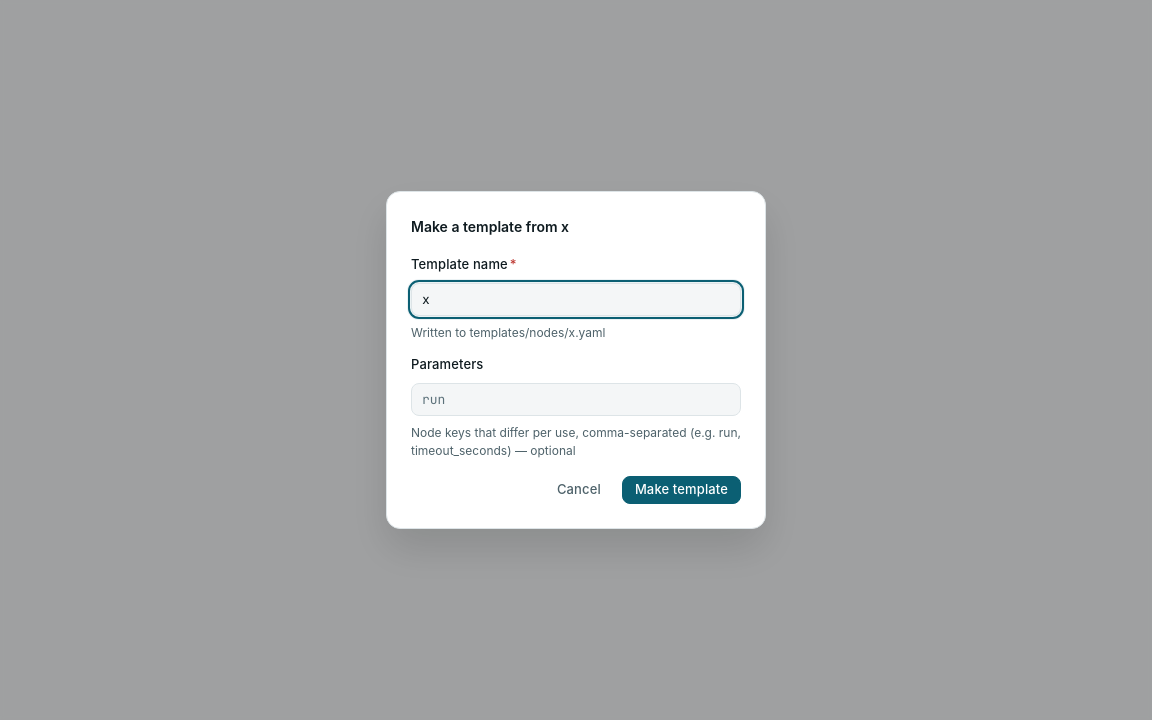
Test: ExtractTemplateDialog › refuses a name that is not a file name
Replace the text in the field labelled "Template name*" with "a/b" at x=576, y=300, box [411,283,741,316]
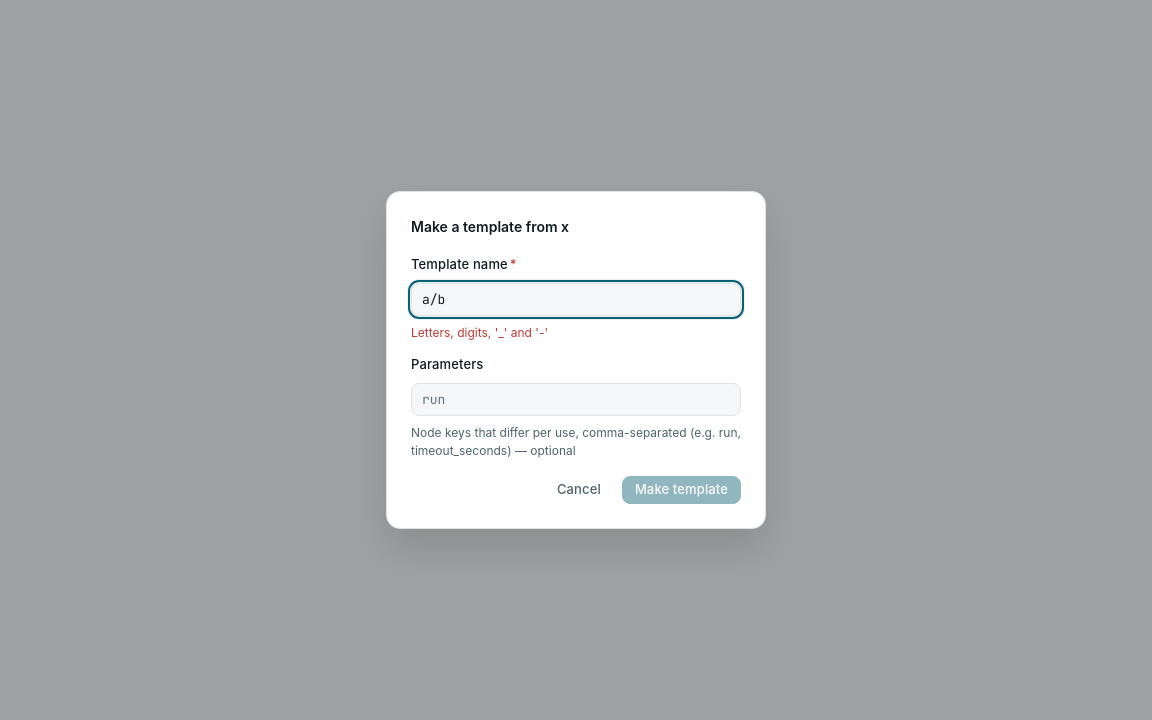
expect the button "Make template" is disabled: met, box [622,476,741,504]
